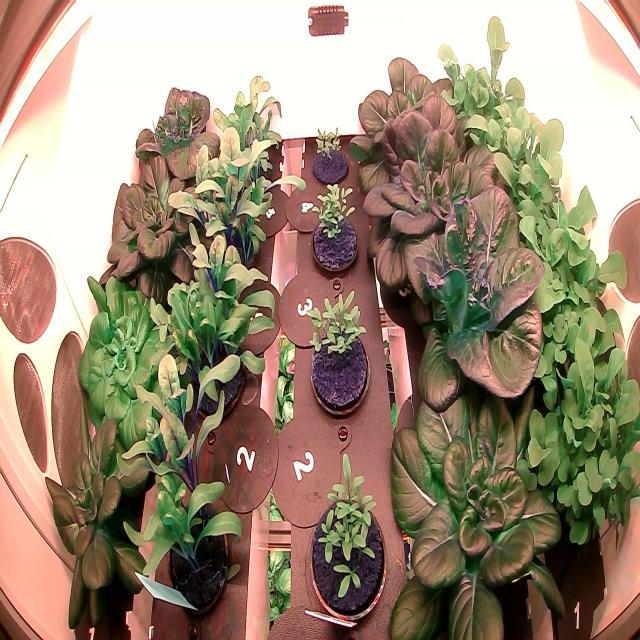Ready: (372, 177, 556, 423), (359, 94, 529, 304), (344, 42, 479, 206)
germination: (304, 116, 352, 192)
young: (376, 348, 581, 639), (36, 406, 159, 640), (69, 268, 183, 467), (97, 122, 218, 298), (124, 74, 229, 190)
